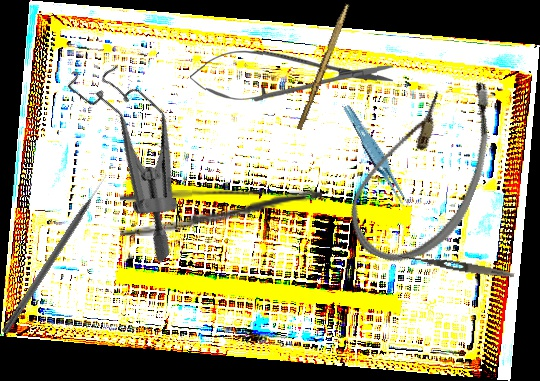Cannula: (337, 54, 514, 282)
Dressing Forceps: (119, 187, 323, 237), (396, 251, 516, 281)
Hook Surgical: (0, 172, 112, 336)
Micro Scissor: (189, 47, 394, 103)
Scalpel Handle: (295, 2, 351, 131)
Speculum: (15, 43, 242, 266)
Tissue Forceps: (342, 100, 412, 215)
